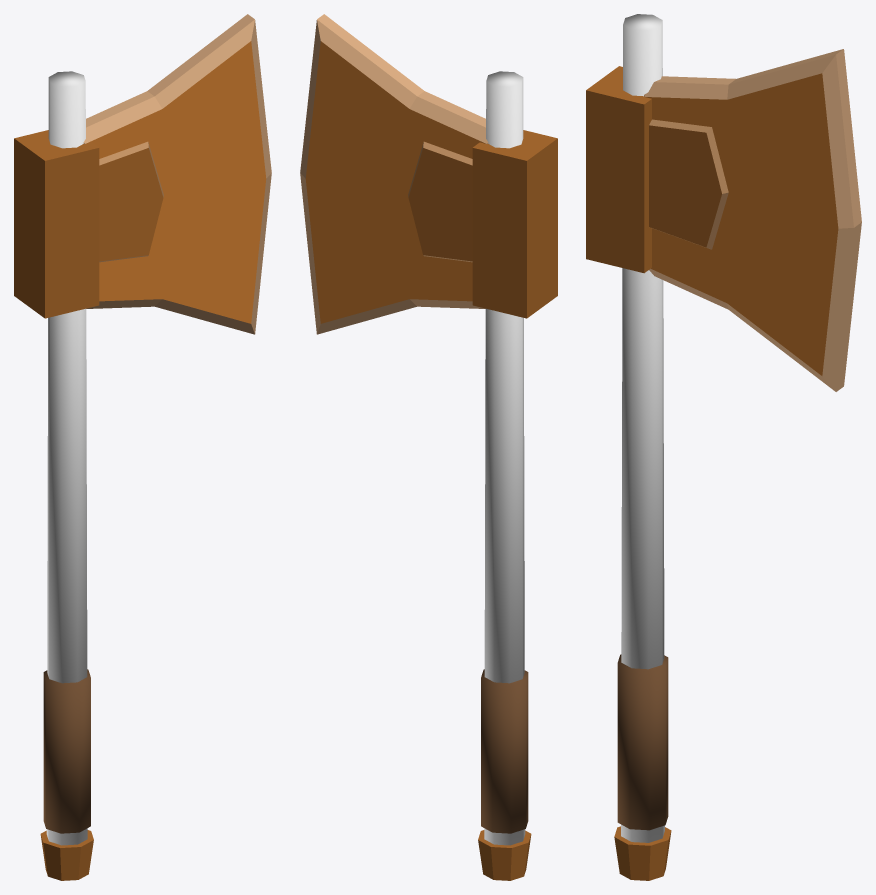
File: solar_flare_hamaxe.glb
The picture shows the model from 3 angles, left to right: view 1: azimuth 30°, elevation 25°; view 2: azimuth 150°, elevation 25°; view 3: azimuth 330°, elevation 25°; orthographic projection. The views are drawn at different scales.
Parts seen in each view (by area): view 1: solar_flare_hamaxe_v0; view 2: solar_flare_hamaxe_v0; view 3: solar_flare_hamaxe_v0.
Boxes of the visible parts, left/top/right/bottom form: solar_flare_hamaxe_v0: left=14, top=14, right=271, bottom=880; solar_flare_hamaxe_v0: left=300, top=14, right=557, bottom=880; solar_flare_hamaxe_v0: left=586, top=14, right=861, bottom=880.
Bounding box in the file's own units: 0.285 × 0.925 × 0.064.
